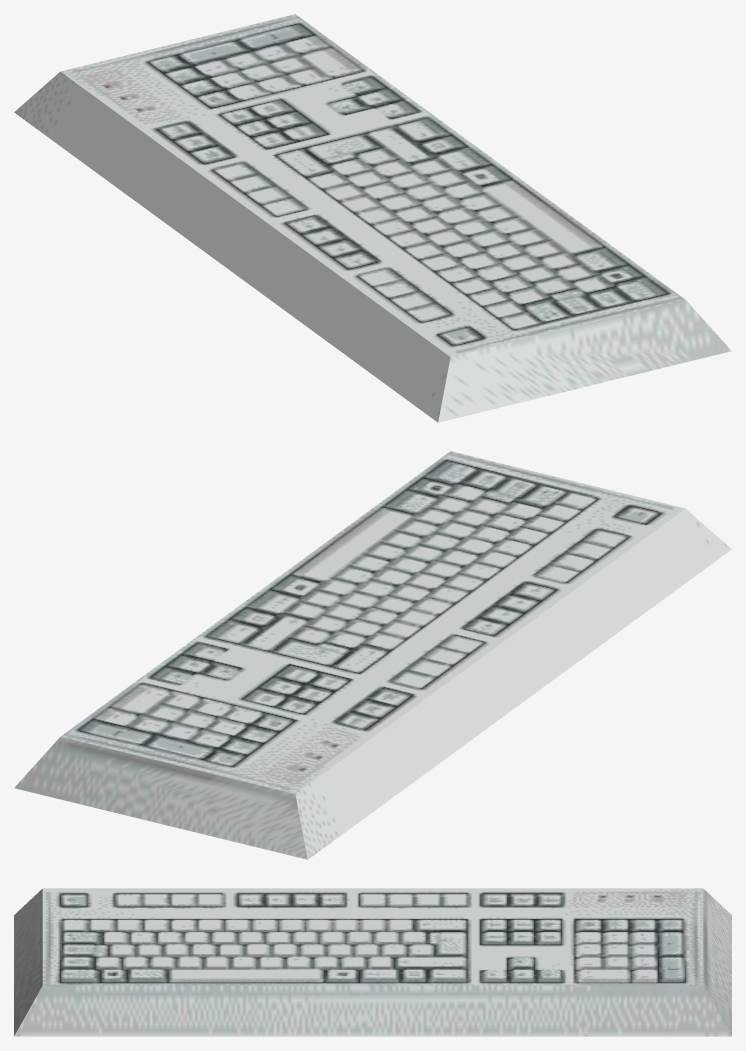
File: Ethernet Main Menu Final Computer Keyboard.fbx
3 renders of one model, top to bottom at view 1: azimuth 30°, elevation 25°; view 2: azimuth 150°, elevation 25°; view 3: azimuth 270°, elevation 25°, orthographic. The views are drawn at different scales.
Visible parts, largest first — view 1: Cube; view 2: Cube; view 3: Cube.
Part boxes in pixels (x1,y1,x2,y2): Cube: [14, 14, 731, 422]; Cube: [14, 451, 731, 859]; Cube: [14, 888, 731, 1036].
Bounding box in the file's own units: 200 × 30 × 500.
1 material, 1 textured.
